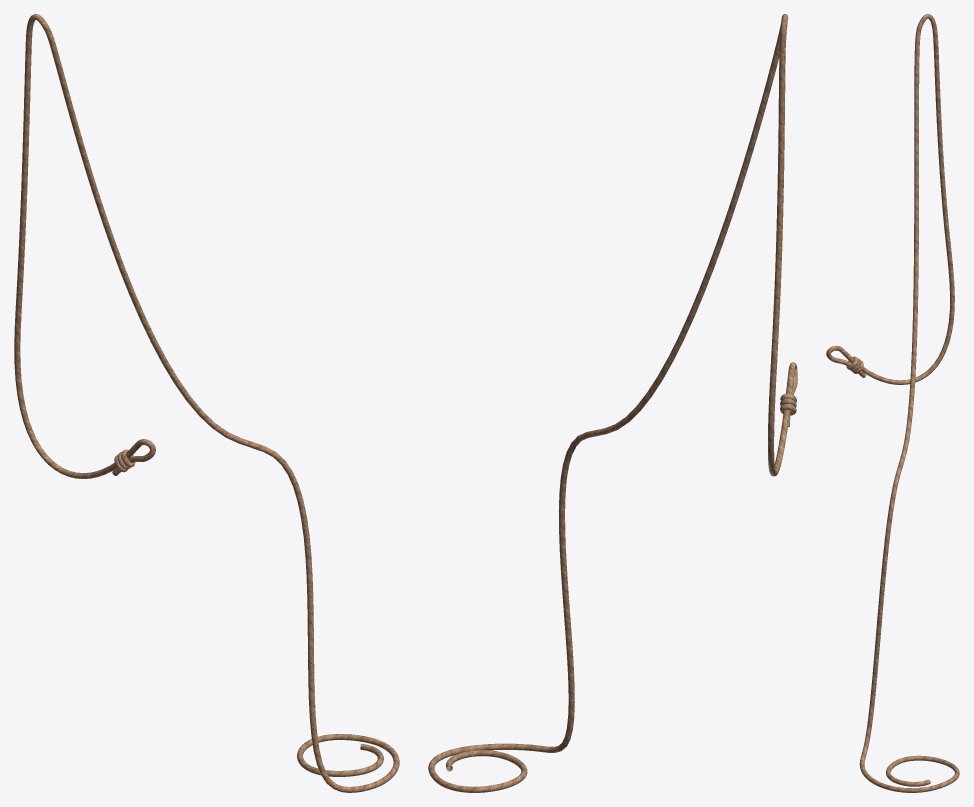
3 views of the same model, side by side, from view 1: azimuth 30°, elevation 25°; view 2: azimuth 150°, elevation 25°; view 3: azimuth 270°, elevation 25° (orthographic). The views are drawn at different scales.
Visible parts, largest first — view 1: BezierCurve.005; view 2: BezierCurve.005; view 3: BezierCurve.005.
Part boxes in pixels (x1,y1,x2,y2): BezierCurve.005: (14,14,399,792); BezierCurve.005: (428,14,797,792); BezierCurve.005: (826,14,959,792).
Size of the model in its own units: 0.6494 by 1.43 by 0.2675.
Materials: 1 (1 with a texture image).
